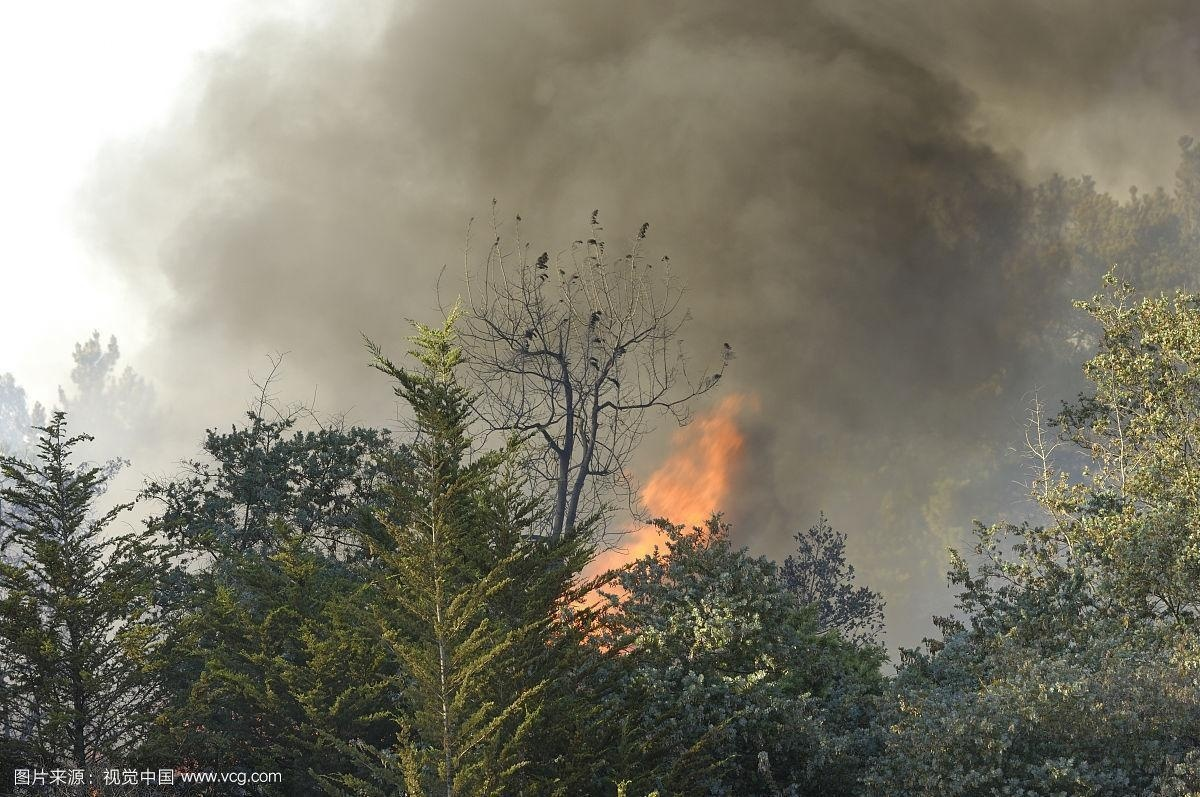fire: (558, 393, 753, 655)
